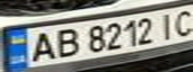1: (121, 16, 142, 47)
2: (133, 15, 160, 45), (103, 19, 127, 52)
8: (81, 22, 109, 54)
A: (24, 29, 60, 63)
B: (48, 26, 84, 59)
C: (169, 6, 193, 37)
I: (154, 10, 181, 39)
